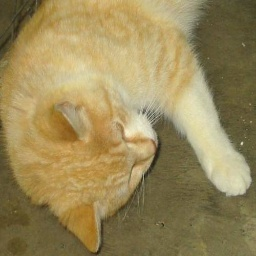cat: (8, 0, 247, 242)
